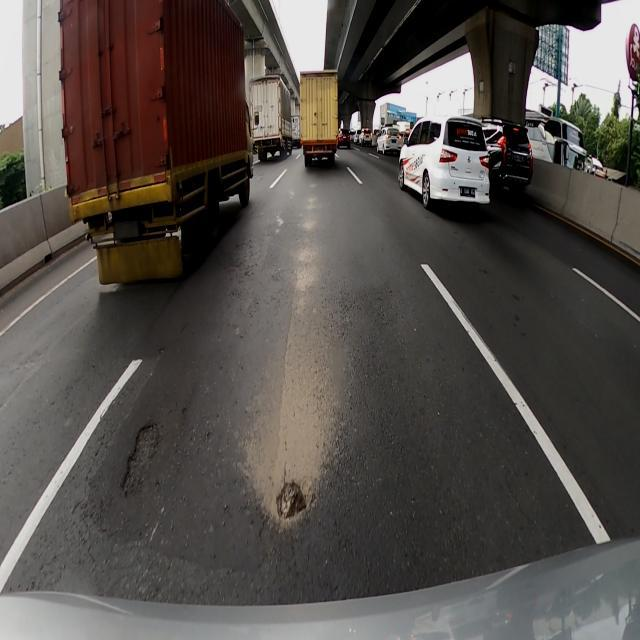Buraco: (115, 421, 164, 500), (272, 478, 322, 524)
